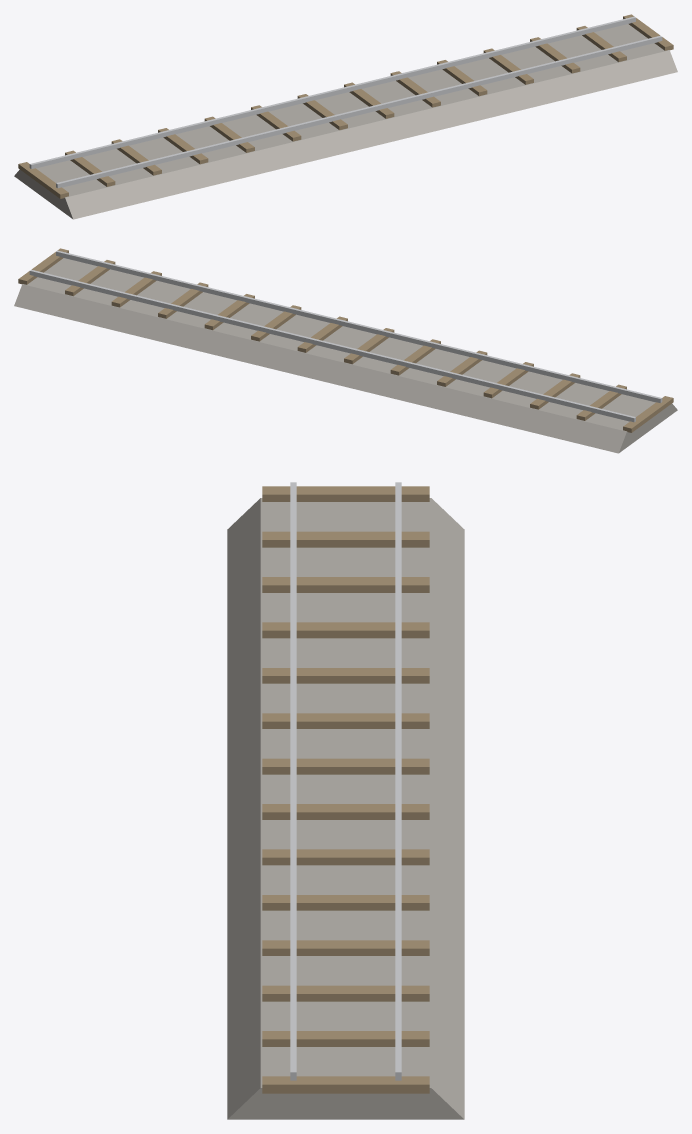
File: rail_track.glb
The picture shows the model from 3 angles, top to bottom: view 1: azimuth 30°, elevation 25°; view 2: azimuth 150°, elevation 25°; view 3: azimuth 270°, elevation 25°; orthographic projection. The views are drawn at different scales.
Parts seen in each view (by area): view 1: BLD_rail_track; view 2: BLD_rail_track; view 3: BLD_rail_track.
Boxes of the visible parts, <box> form: BLD_rail_track: <box>14,14,677,219</box>; BLD_rail_track: <box>14,248,677,453</box>; BLD_rail_track: <box>227,482,464,1119</box>.
Bounding box in the file's own units: 20.28 × 0.75 × 3.4.
